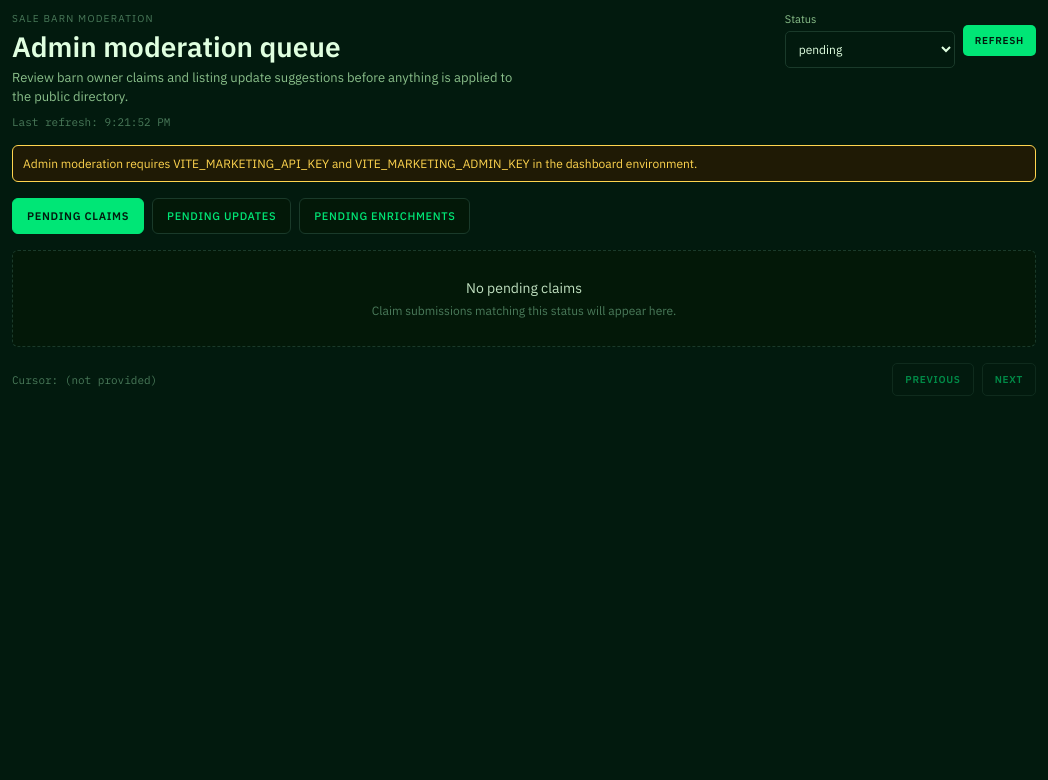
Test: AdminModeration › switches to pending updates and renders update-specific fields
Expected: the text "No pending claims" is shown, [466,279,582,297]
Click the tab "Pending Updates" at (222, 216), box [152,198,291,234]
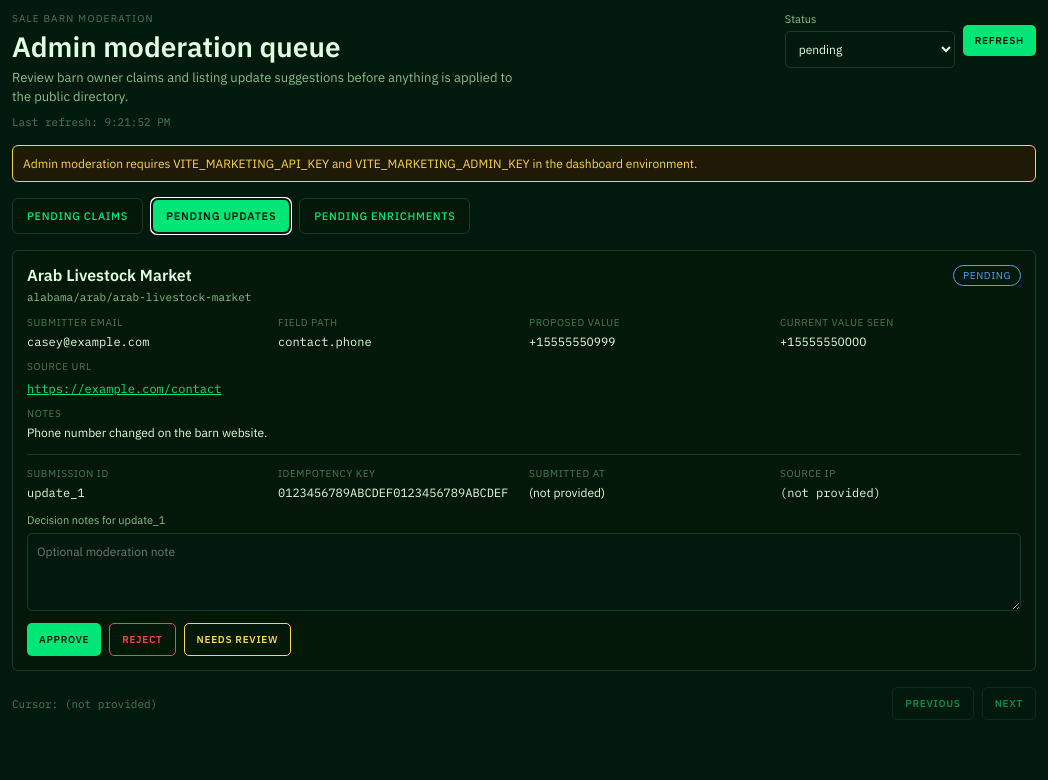
Now the text "contact.phone" is shown, box [278,334,372,349]
Now the text "+15555550999" is shown, box [529,334,615,349]
Now the text "Phone number changed on the barn website." is shown, box [27,426,267,440]
